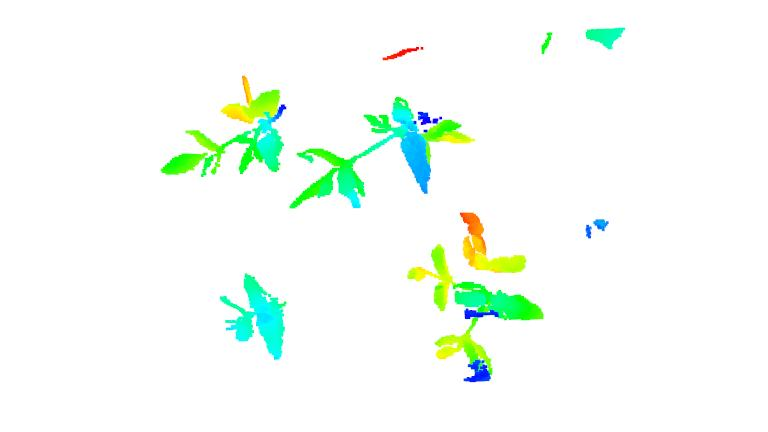mungbean: (405, 211, 552, 386), (285, 89, 473, 211), (158, 73, 291, 183), (217, 268, 299, 363)
